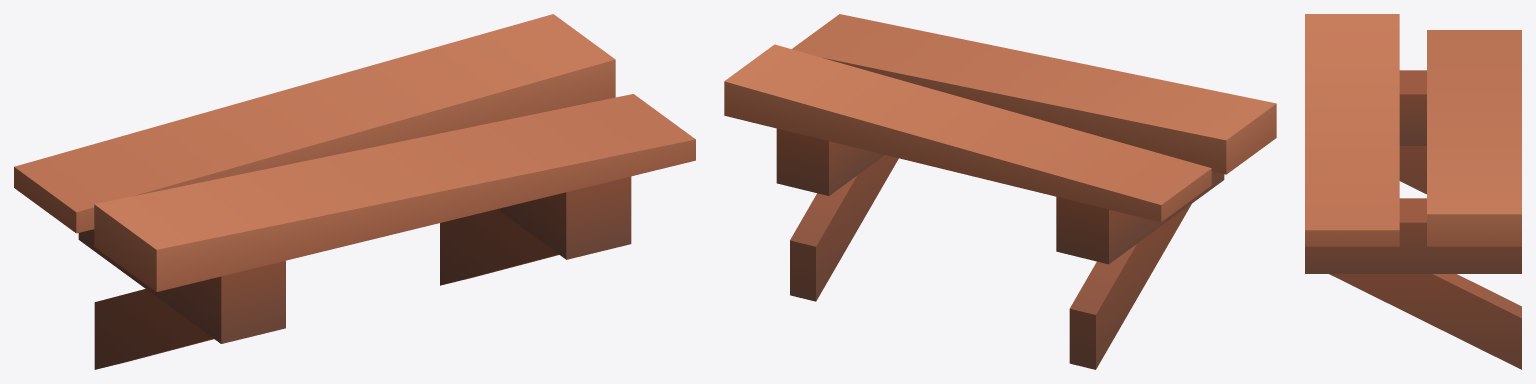
File: platform-overhang.glb
The picture shows the model from 3 angles, left to right: view 1: azimuth 30°, elevation 25°; view 2: azimuth 150°, elevation 25°; view 3: azimuth 270°, elevation 25°; orthographic projection. The views are drawn at different scales.
Parts seen in each view (by area): view 1: platform-overhang; view 2: platform-overhang; view 3: platform-overhang.
Boxes of the visible parts, x1,y1,x2,y2 form: platform-overhang: (14, 14, 695, 369); platform-overhang: (724, 14, 1276, 369); platform-overhang: (1305, 14, 1521, 369).
Bounding box in the file's own units: 1 × 0.4325 × 0.4577.
1 material, 1 textured.
